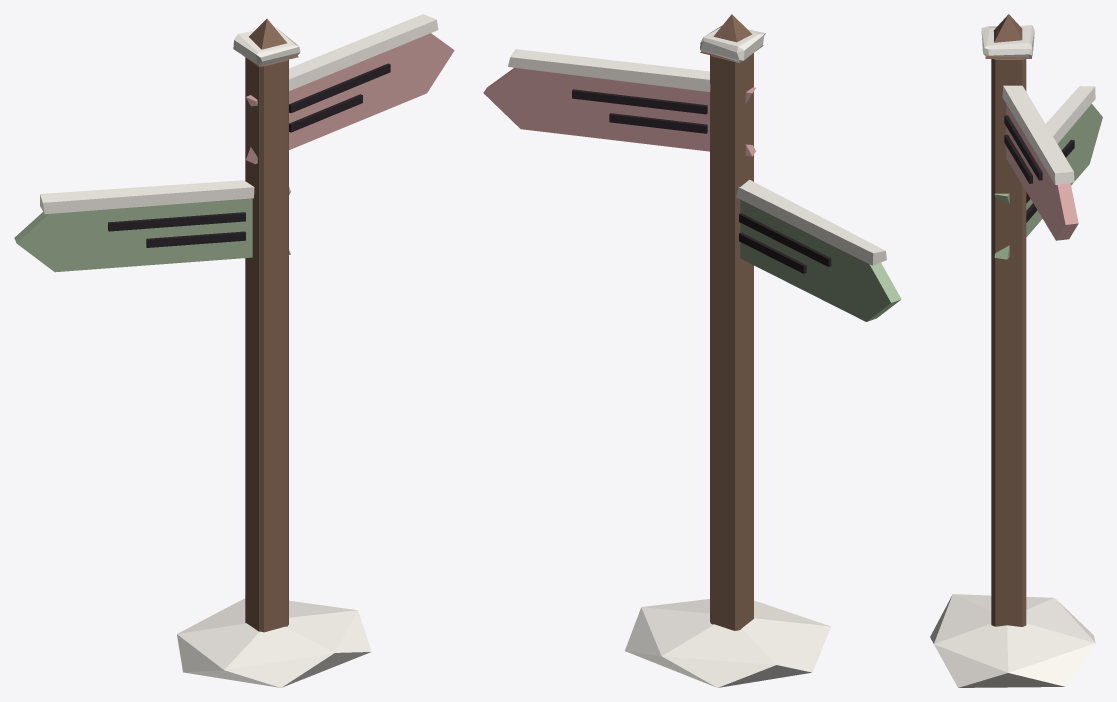
The model's file is sb_signpost.glb.
The picture shows the model from 3 angles, left to right: view 1: azimuth 30°, elevation 25°; view 2: azimuth 150°, elevation 25°; view 3: azimuth 270°, elevation 25°; orthographic projection.
Visible parts, largest first — view 1: signpost; view 2: signpost; view 3: signpost.
Boxes of the visible parts, box(x1,y1,x2,y2) form: signpost: box(14, 14, 454, 687); signpost: box(483, 14, 901, 687); signpost: box(930, 14, 1102, 687).
Size of the model in its own units: 1.27 by 1.84 by 0.4461.
